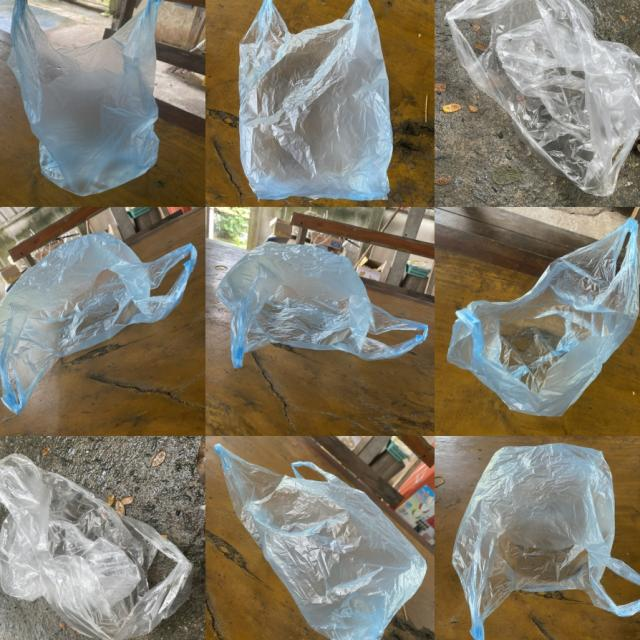plastik: (214, 445, 426, 640), (445, 0, 640, 197), (448, 218, 639, 417), (453, 444, 640, 640), (0, 231, 197, 413), (0, 454, 191, 640), (239, 0, 392, 200), (7, 0, 163, 196), (217, 242, 427, 368)
